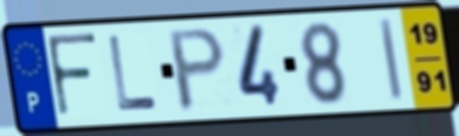4: (235, 21, 288, 112)
8: (296, 19, 349, 108)
F: (43, 31, 101, 122)
I: (377, 14, 406, 103)
L: (106, 34, 161, 114)
P: (167, 25, 228, 115)
